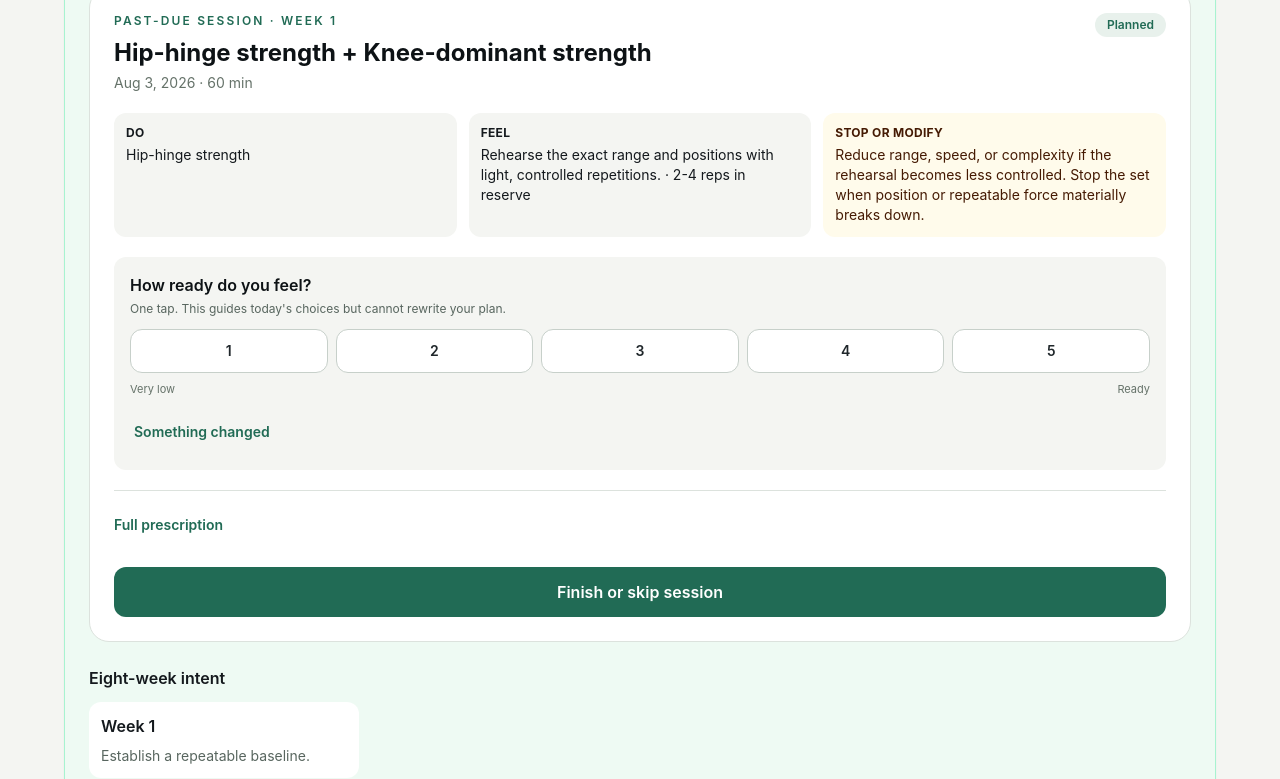
Test: ProgramPage adaptive coach workflow › records concise session feedback and shows the deterministic weekly review
(page scrolled)
Click the button named "Readiness 4": (846, 351) [747,329,944,373]
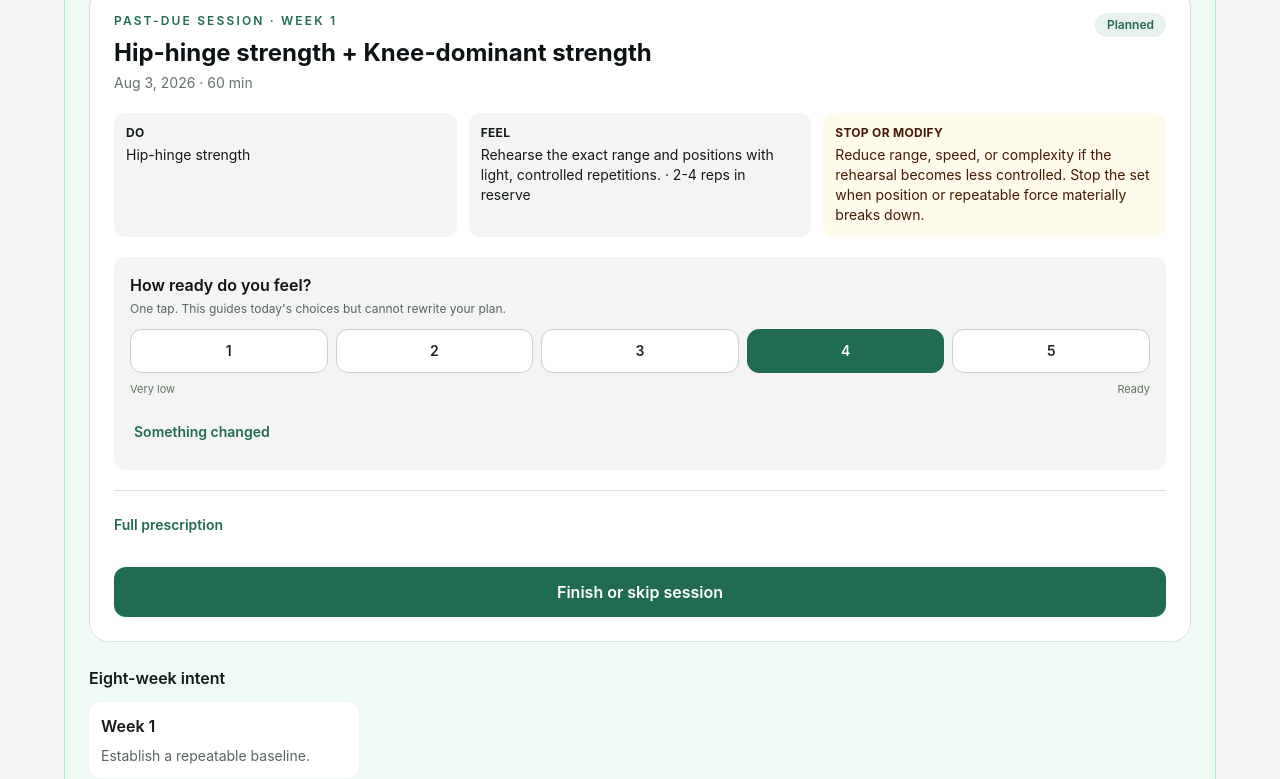
Click the button "Finish or skip session": (640, 592) [114,566,1166,616]
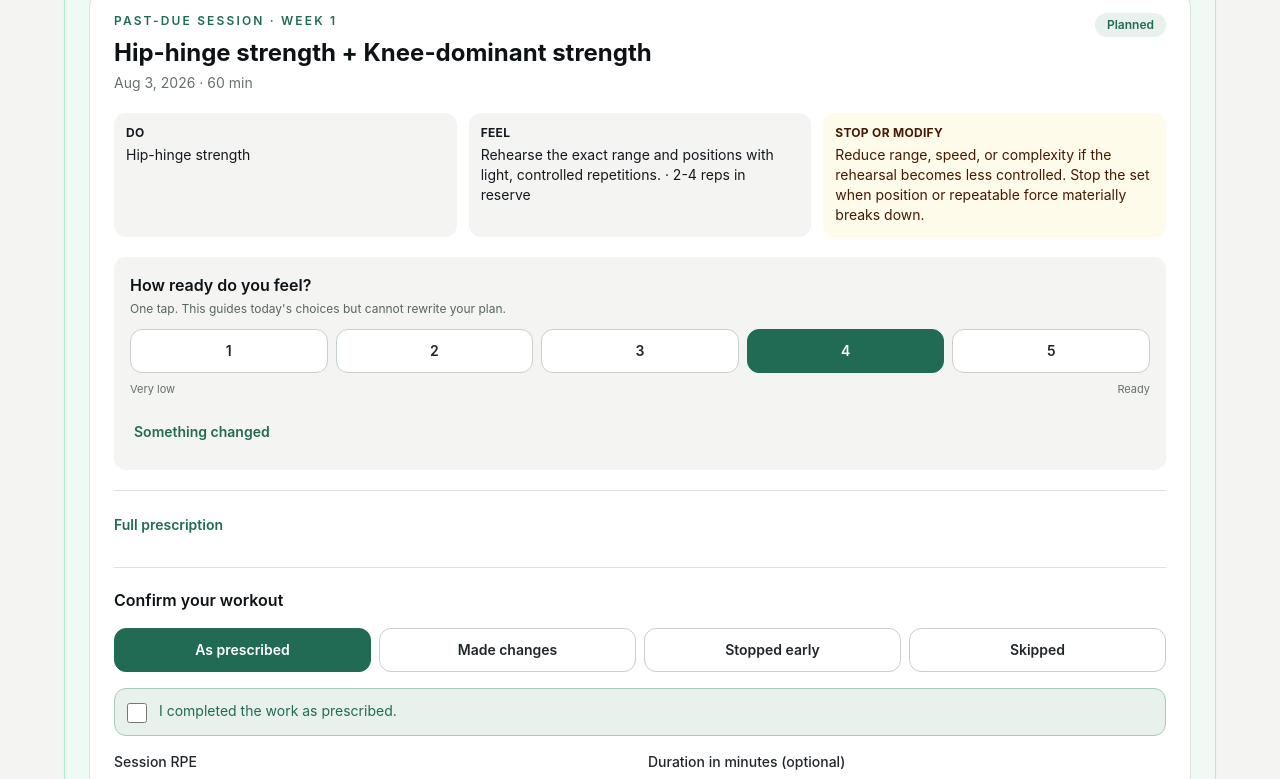
Click the checkbox named "Confirm completed prescribed work": (137, 712) [127,702,147,722]
(page scrolled)
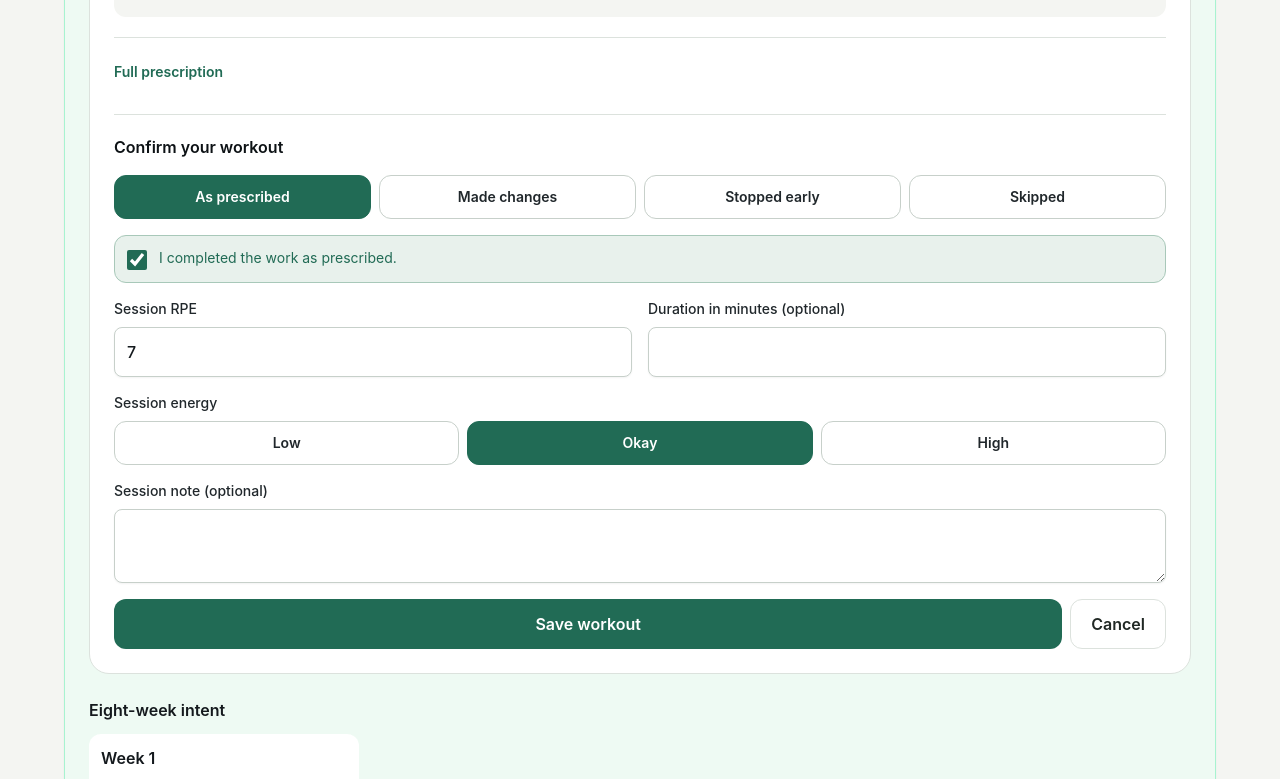
Replace the text in the number field labelled "Session RPE" with "7.5": (373, 352) [114,326,632,376]
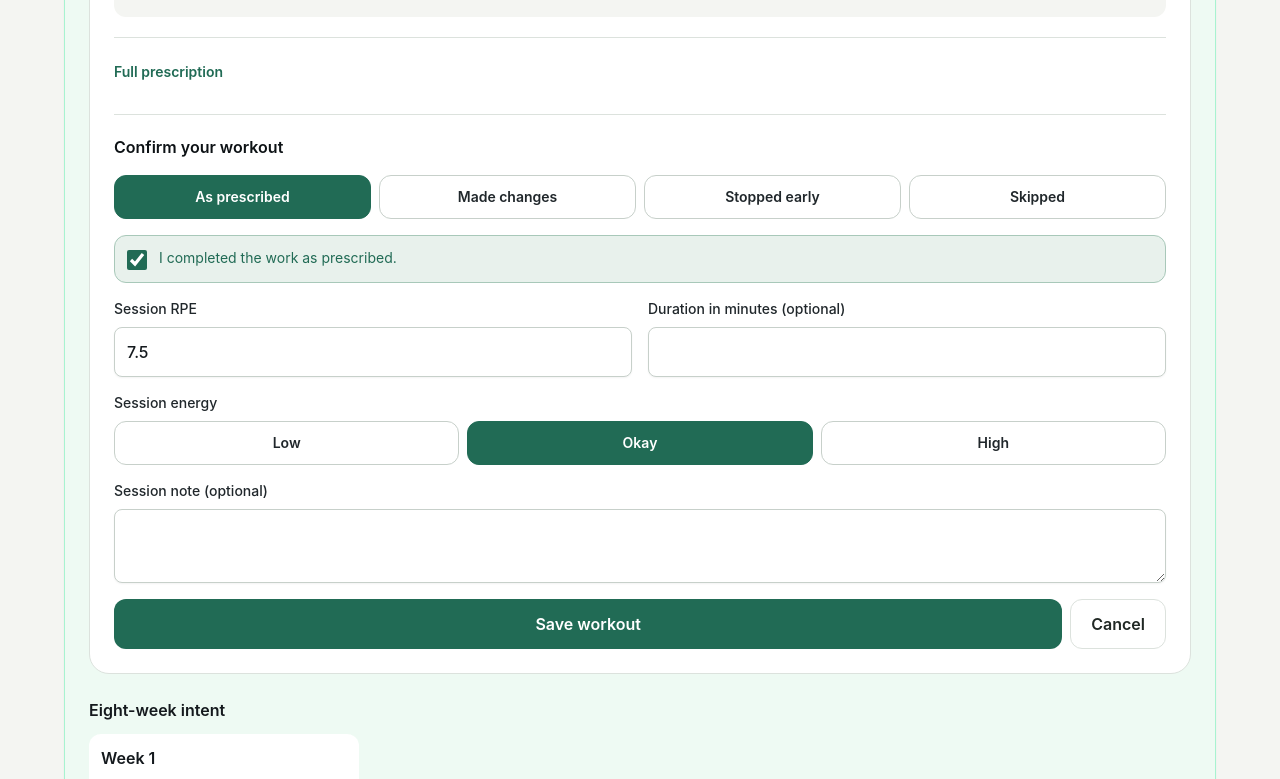
In the text box labelled "Session note": (640, 546) [114,508,1166,582], type "Strong and controlled."
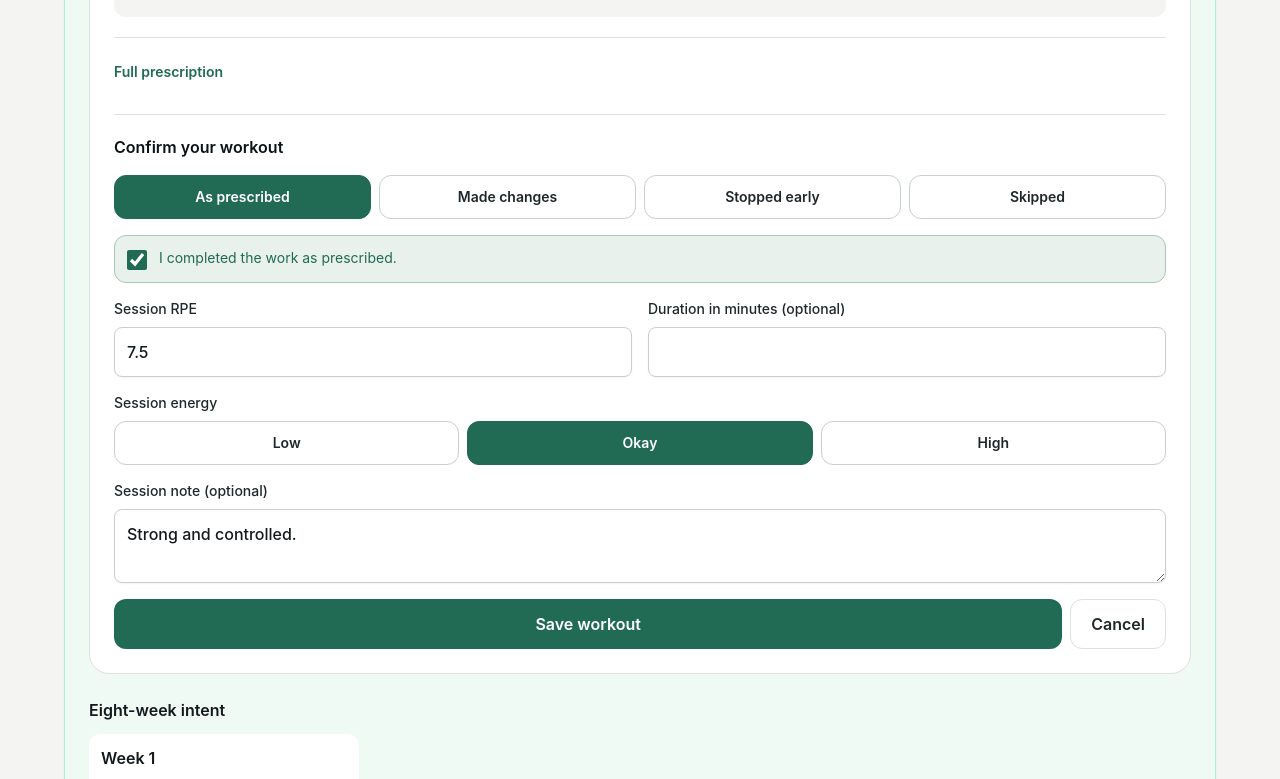
Click the button "Save workout": (588, 624) [114,598,1062,648]
(page scrolled)
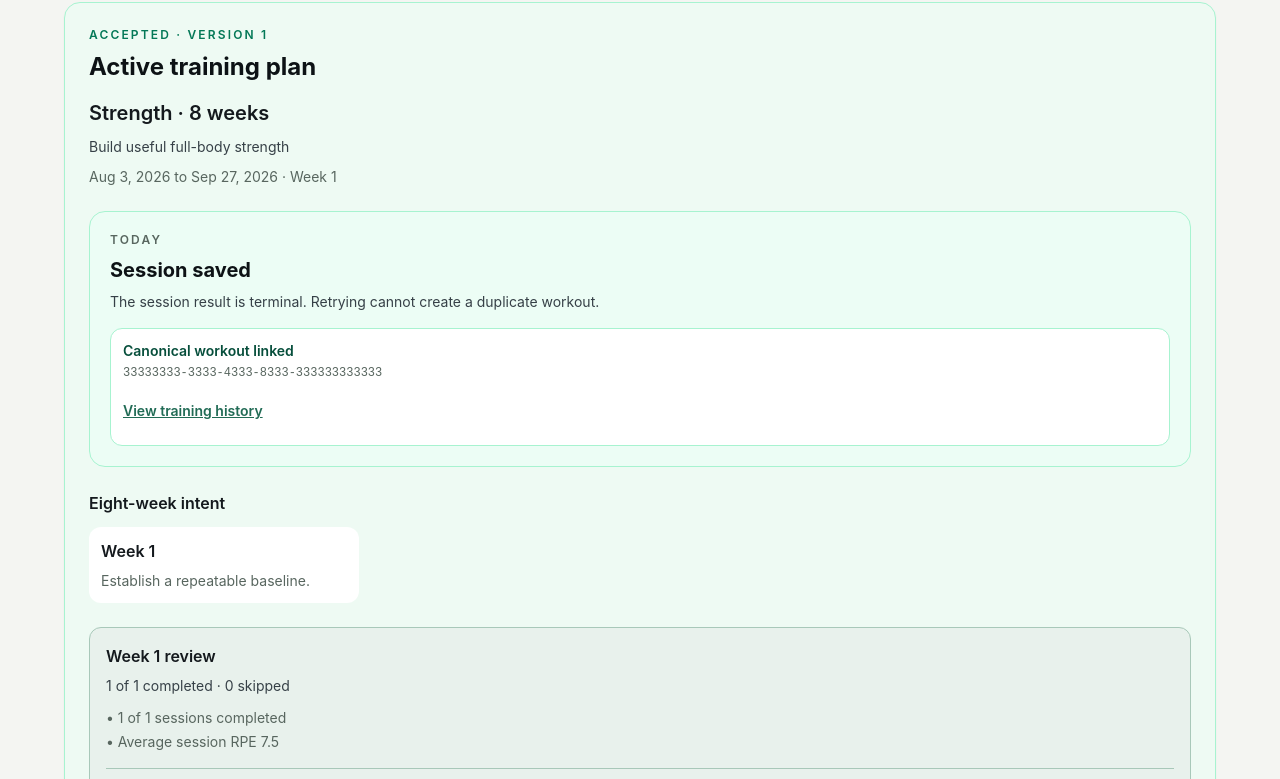
expect the text "Canonical workout linked" is shown: met, box [123,342,294,359]
